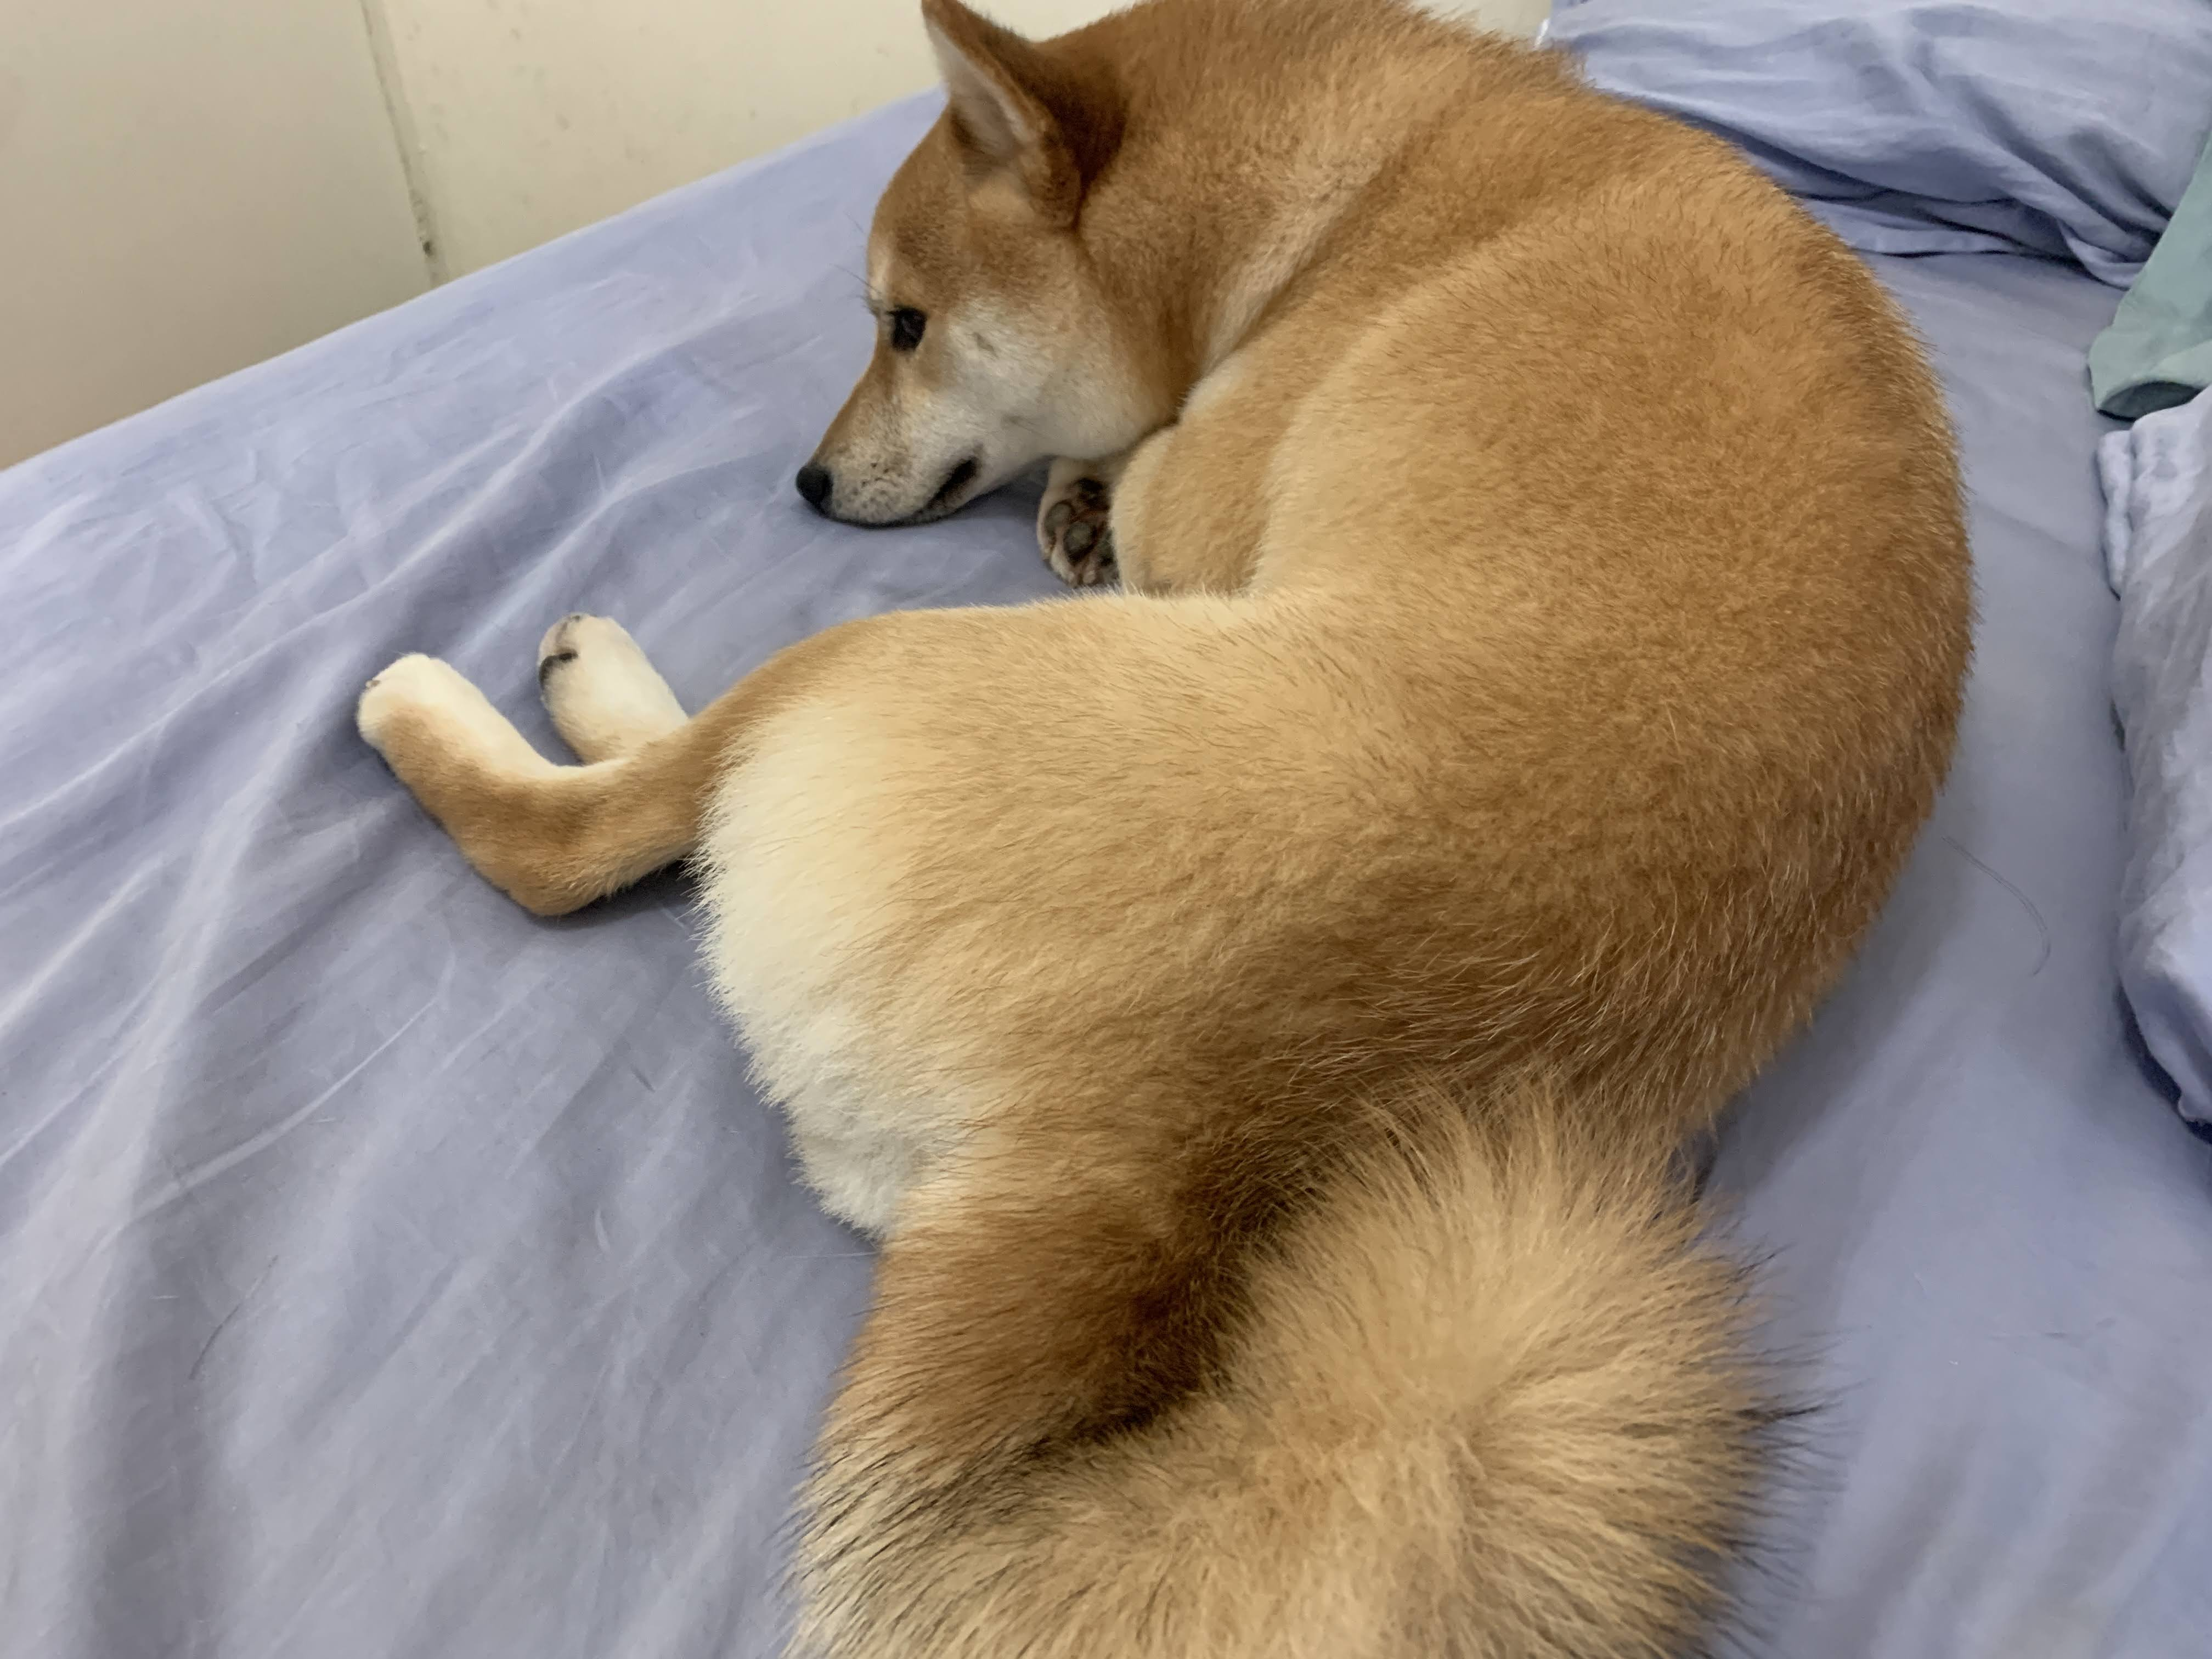Get down: (362, 5, 1907, 1659)
